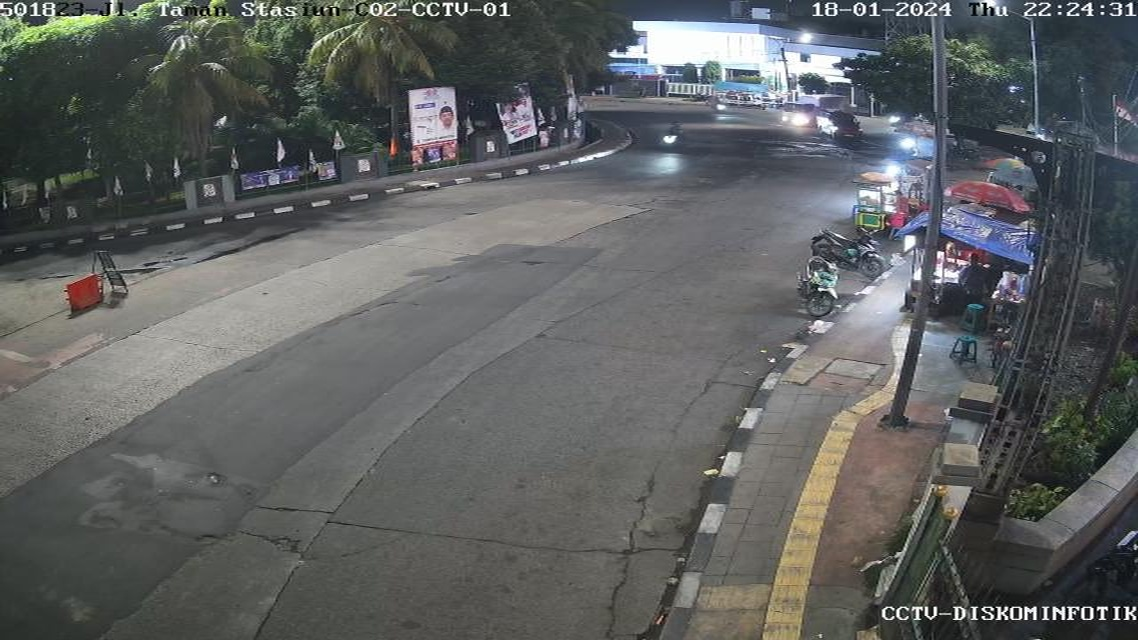Gerobak: (903, 229, 974, 313), (854, 166, 893, 235)
